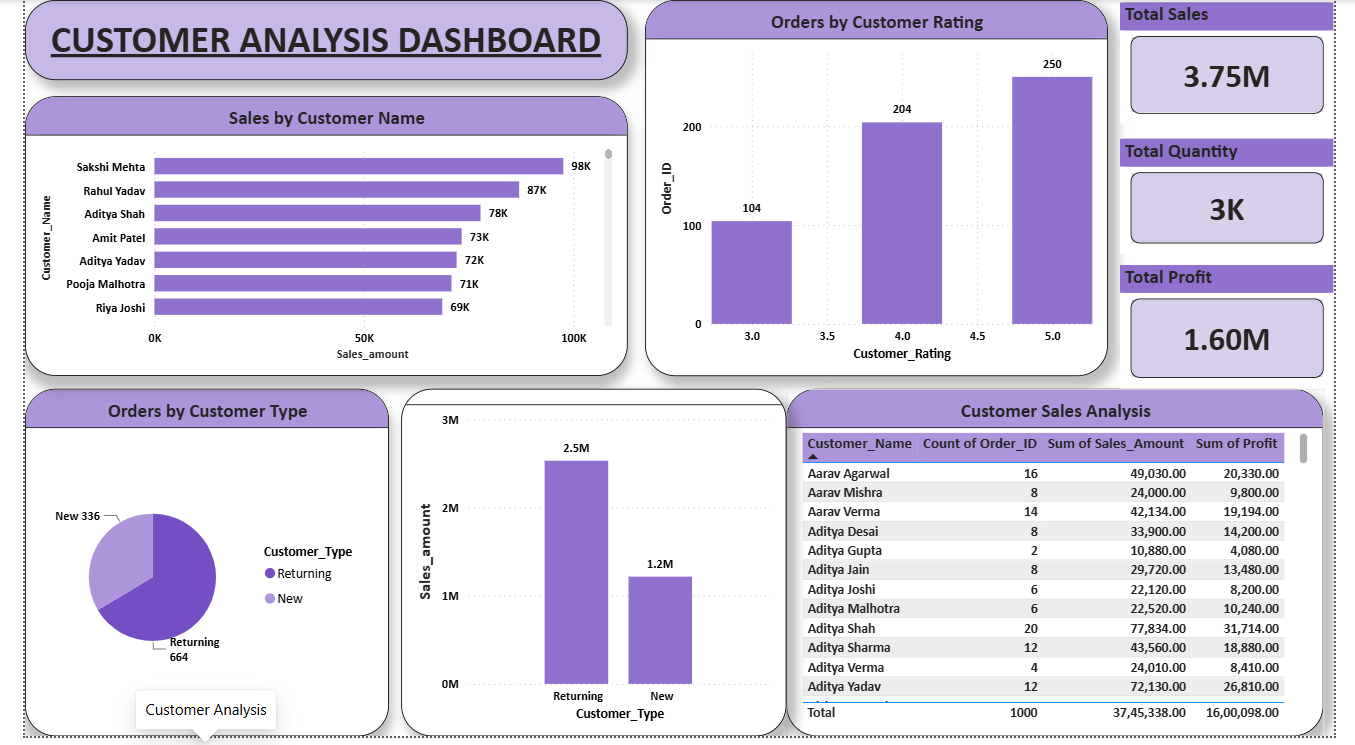

The dashboard page shown, as its layout file describes it:
{"tool":"powerbi","page":{"name":"Customer Analysis","canvas":[1280,720],"ordinal":1},"visuals":[{"type":"pieChart","title":"Orders by Customer Type","fields":{"Category":["ecommerce_project ecommerce_clean.Customer_Type"],"Y":["CountNonNull(ecommerce_project ecommerce_clean.Order_ID)"]},"box":[0,380.3,355.8,339.9],"z":0},{"type":"clusteredColumnChart","title":"Orders by Customer Rating","fields":{"Category":["ecommerce_project ecommerce_clean.Customer_Rating"],"Y":["CountNonNull(ecommerce_project ecommerce_clean.Order_ID)"]},"box":[606.5,0,452.4,368.1],"z":1000},{"type":"tableEx","title":"Customer Sales Analysis","fields":{"Values":["ecommerce_project ecommerce_clean.Customer_Name","ecommerce_project ecommerce_clean.Order_ID","Sum(ecommerce_project ecommerce_clean.Sales_Amount)","Sum(ecommerce_project ecommerce_clean.Profit)"]},"box":[744.7,380.3,525.8,339.9],"z":2000},{"type":"clusteredBarChart","title":"Sales by Customer Name","fields":{"Category":["ecommerce_project ecommerce_clean.Customer_Name"],"Y":["Sum(ecommerce_project ecommerce_clean.Sales_Amount)"]},"box":[0,94.2,589.4,273.9],"z":3000},{"type":"clusteredColumnChart","fields":{"Category":["ecommerce_project ecommerce_clean.Customer_Type"],"Y":["Sum(ecommerce_project ecommerce_clean.Sales_Amount)"]},"box":[368.1,380.3,376.6,339.9],"z":4000},{"type":"cardVisual","title":"Total Sales","fields":{"Data":["ecommerce_project ecommerce_clean.Total Sales"]},"box":[1071.2,2.4,209.1,118.6],"z":5000},{"type":"cardVisual","title":"Total Quantity","fields":{"Data":["ecommerce_project ecommerce_clean.Total Quantity"]},"box":[1071.2,135.7,209.1,112.5],"z":6000},{"type":"cardVisual","title":"Total Profit","fields":{"Data":["ecommerce_project ecommerce_clean.Total Profit"]},"box":[1071.2,259.2,209.1,121.1],"z":7000},{"type":"textbox","box":[0,0,589.4,78.3],"z":8000}]}

Visuals, with their boxes in screenshot pixels (x1, y1, x2, y2), scaled from the page's 1280x720 canvas onto the 1355x745 screenshot:
"Orders by Customer Type" pieChart: {"left": 0, "top": 394, "right": 377, "bottom": 744}
"Orders by Customer Rating" clusteredColumnChart: {"left": 642, "top": 0, "right": 1121, "bottom": 381}
"Customer Sales Analysis" tableEx: {"left": 788, "top": 394, "right": 1345, "bottom": 744}
"Sales by Customer Name" clusteredBarChart: {"left": 0, "top": 97, "right": 624, "bottom": 381}
clusteredColumnChart - ecommerce_project ecommerce_clean.Customer_Type x Sum(ecommerce_project ecommerce_clean.Sales_Amount): {"left": 390, "top": 394, "right": 788, "bottom": 744}
"Total Sales" cardVisual: {"left": 1134, "top": 2, "right": 1354, "bottom": 125}
"Total Quantity" cardVisual: {"left": 1134, "top": 140, "right": 1354, "bottom": 257}
"Total Profit" cardVisual: {"left": 1134, "top": 268, "right": 1354, "bottom": 394}
textbox: {"left": 0, "top": 0, "right": 624, "bottom": 81}
